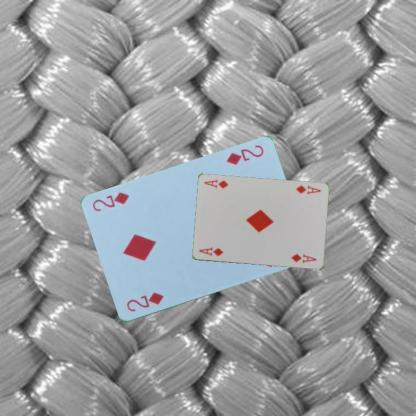2d: (224, 143, 264, 167), (124, 290, 165, 313)
Ad: (293, 182, 322, 196), (196, 244, 224, 258)
